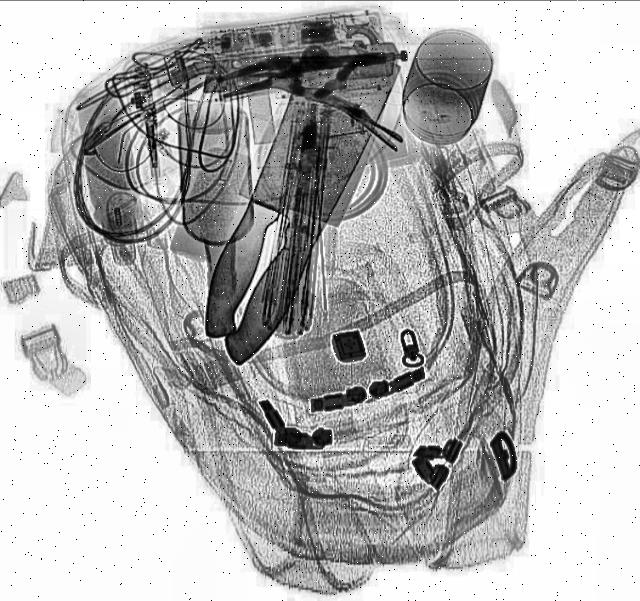Knife: (170, 33, 400, 373), (190, 36, 406, 358)
